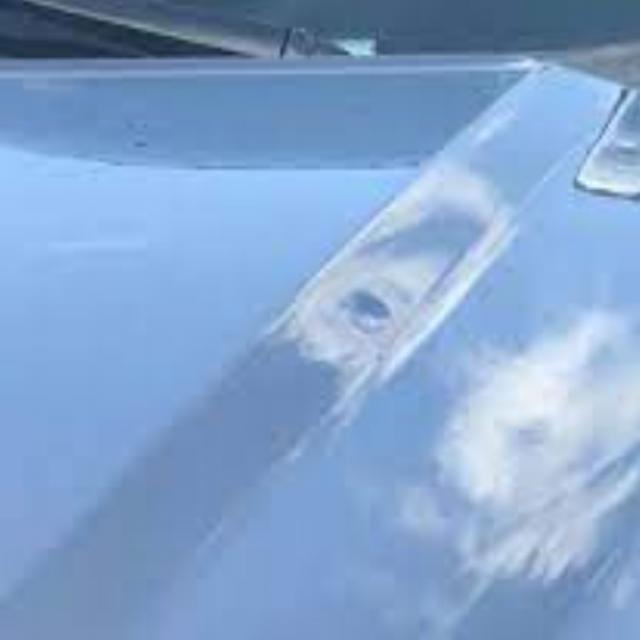dents: (336, 280, 396, 347)
